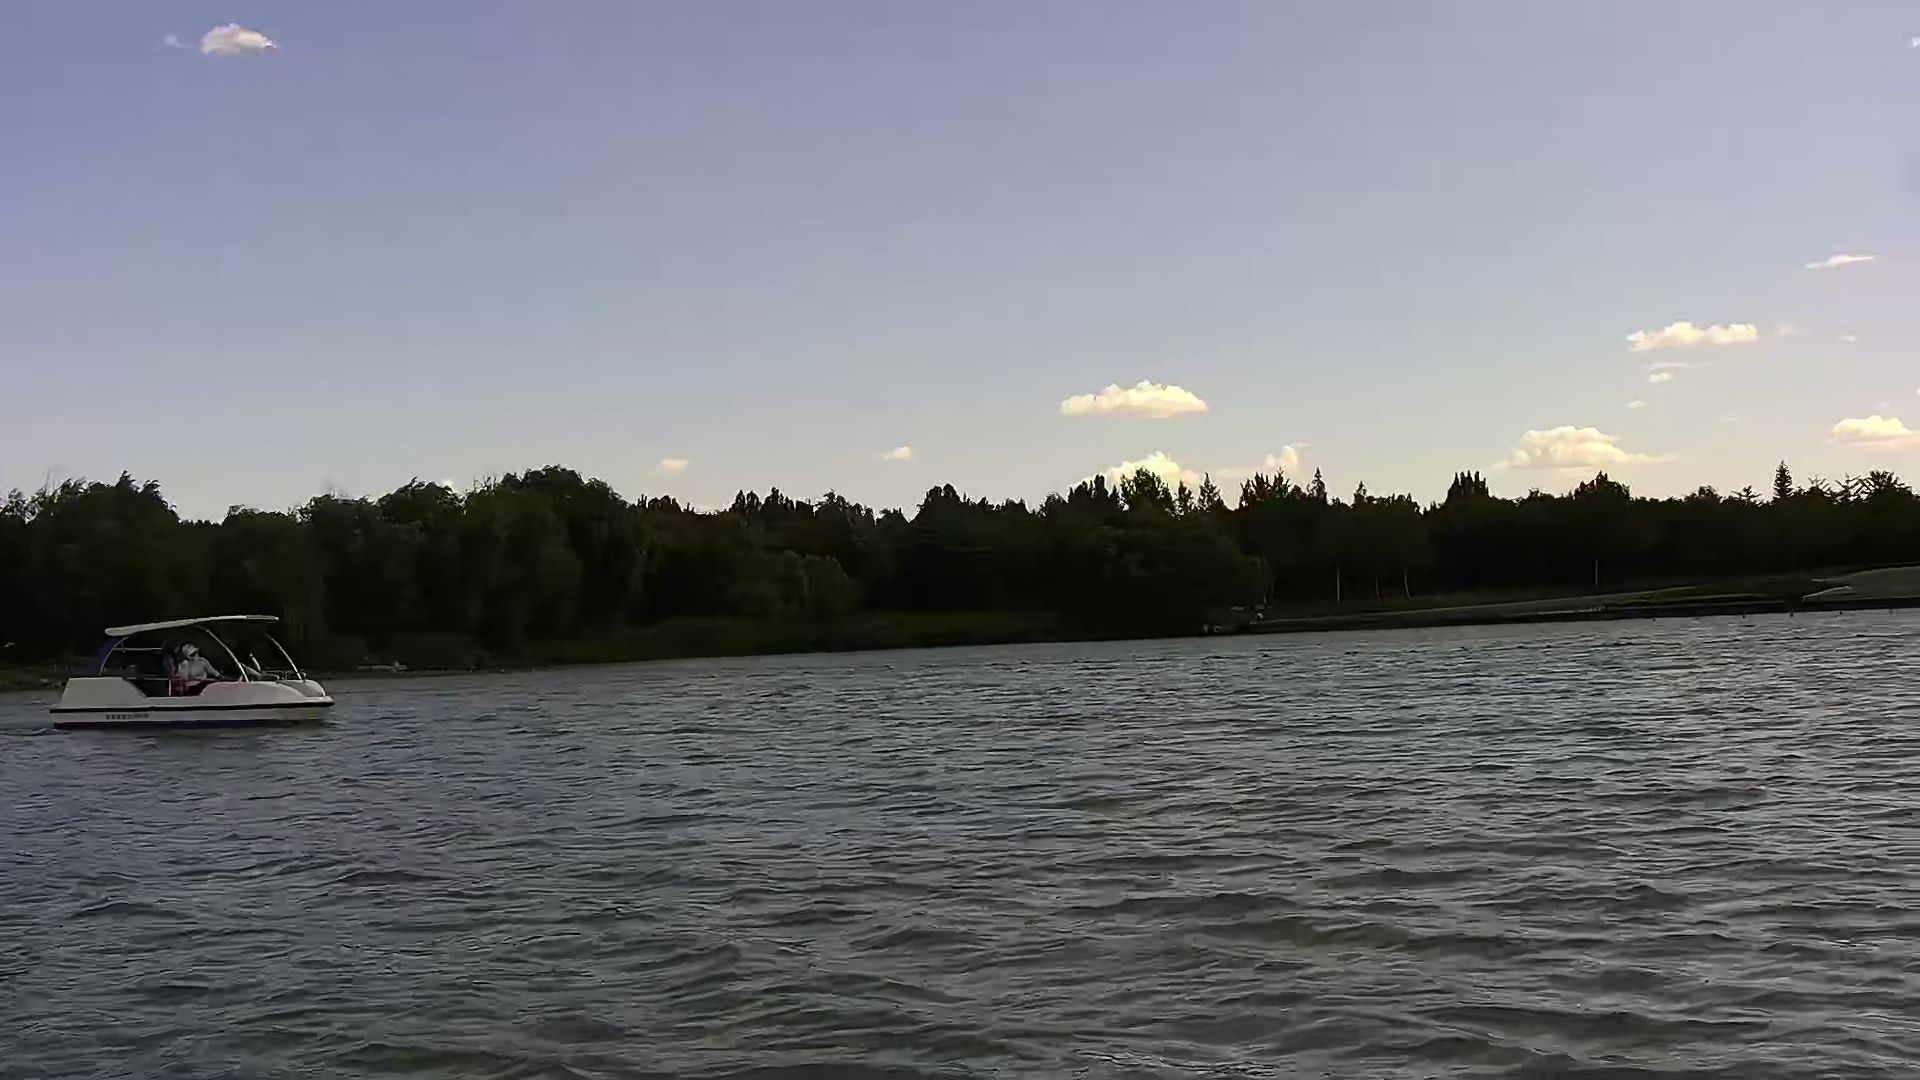boat: (43, 608, 340, 731)
harbor: (1231, 543, 1920, 639)
person: (169, 640, 219, 697)
